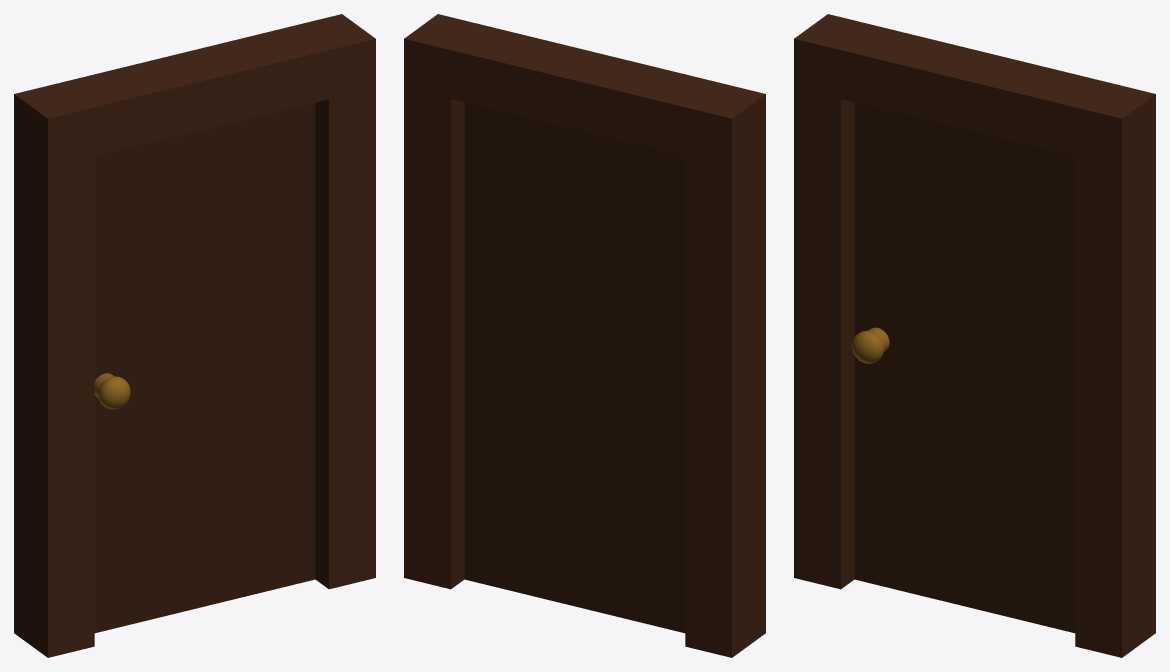
The model's file is Door.fbx.
The picture shows the model from 3 angles, left to right: view 1: azimuth 30°, elevation 25°; view 2: azimuth 150°, elevation 25°; view 3: azimuth 330°, elevation 25°; orthographic projection.
Visible parts, largest first — view 1: Door, Frame, Knob; view 2: Door, Frame; view 3: Door, Frame, Knob.
Part boxes in pixels (x1,y1,x2,y2): Door: (94, 102, 315, 633); Frame: (14, 14, 375, 657); Knob: (94, 373, 130, 409); Door: (464, 102, 685, 633); Frame: (404, 14, 765, 657); Door: (854, 102, 1075, 633); Frame: (794, 14, 1155, 657); Knob: (852, 327, 889, 363).
Size of the model in its own units: 280 by 440 by 54.46.
